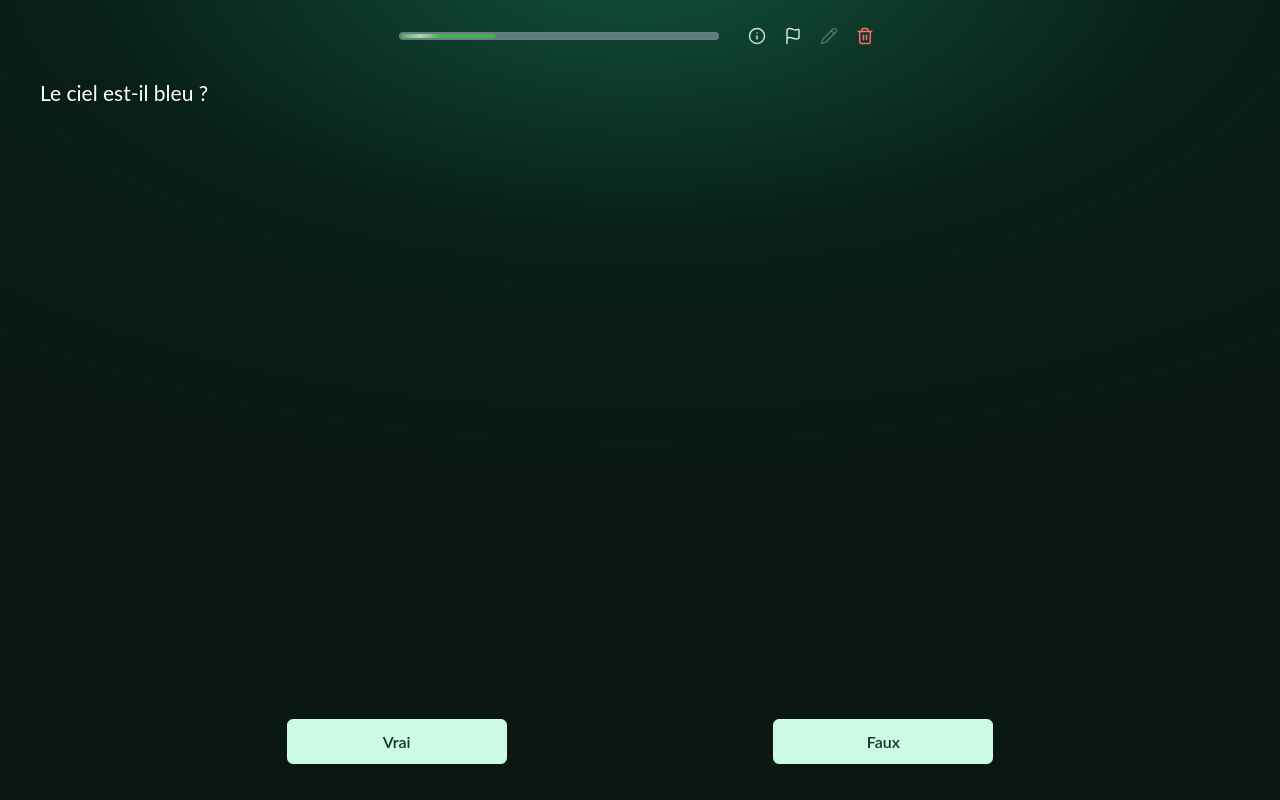
Test: Session › ouvre le menu Détails avec les infos quand on clique sur le bouton Info
Expected: the text "Détails de la question" is not shown
Click the button titled "Détails".
click(757, 36)  # box [741,20,773,52]
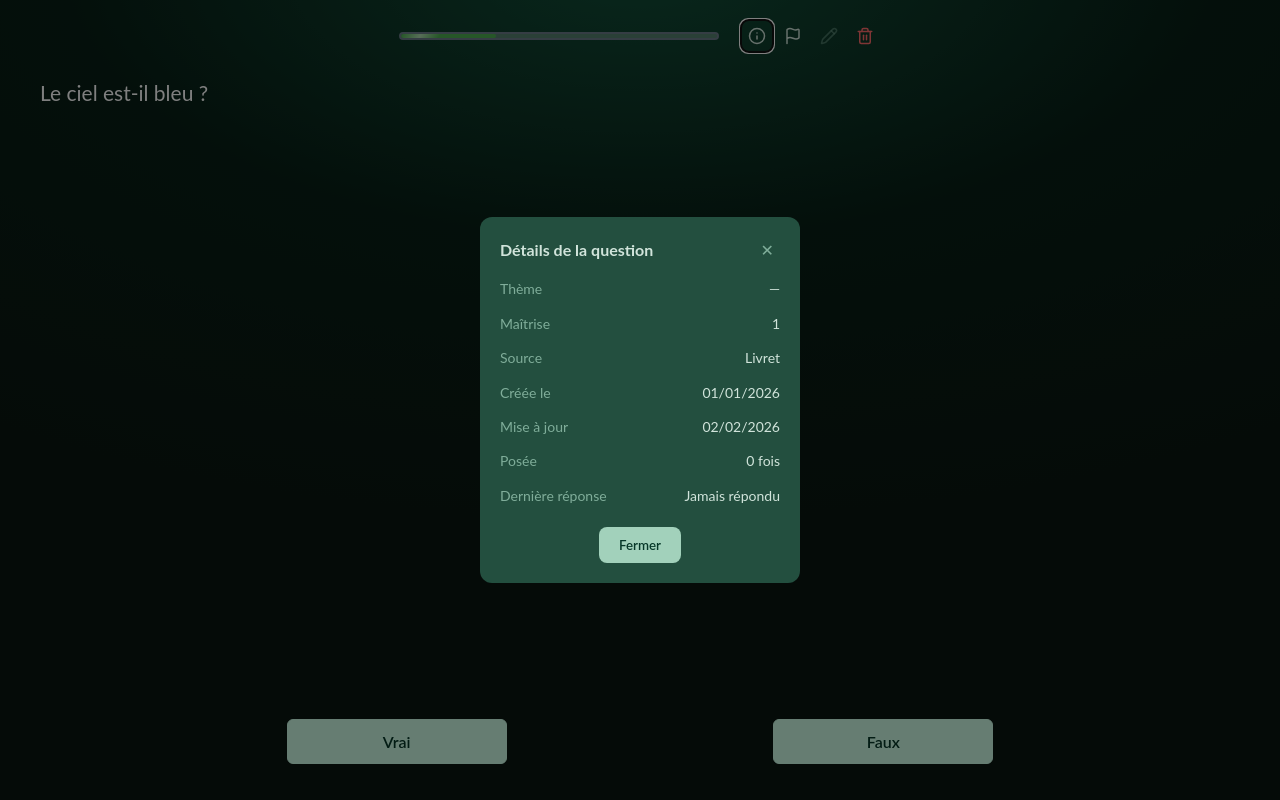
Result: the text "Détails de la question" is shown at [500,237,653,262]
Result: the text "Thème" is shown at [500,278,542,301]
Result: the text "Maîtrise" is shown at [500,313,550,335]
